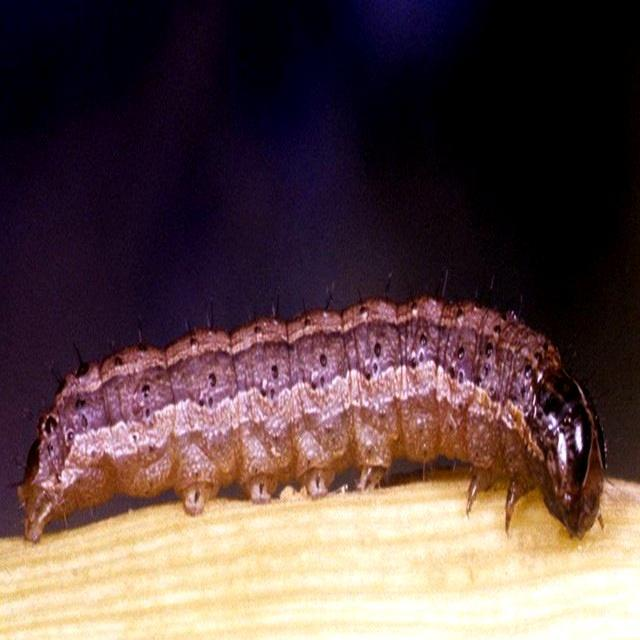Plaga: (12, 274, 615, 553)
